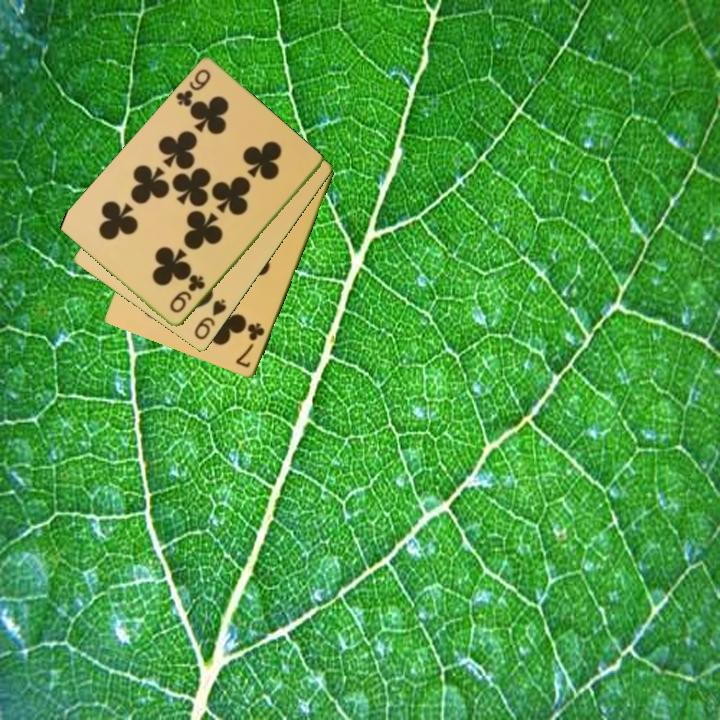7c: (233, 319, 268, 371)
9c: (172, 65, 214, 110), (166, 272, 208, 316)
9s: (190, 295, 230, 343)
